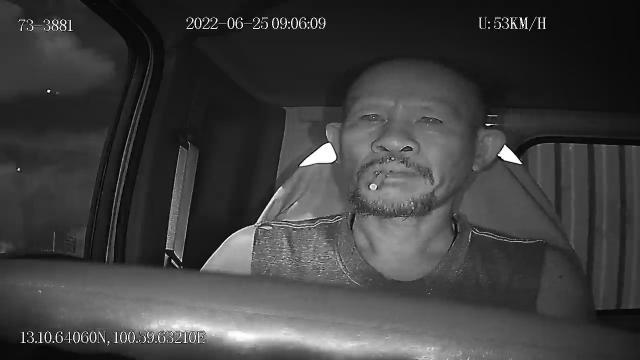SafeDriving: (409, 106, 450, 132), (353, 103, 392, 130)
Smoking: (370, 169, 390, 191)
